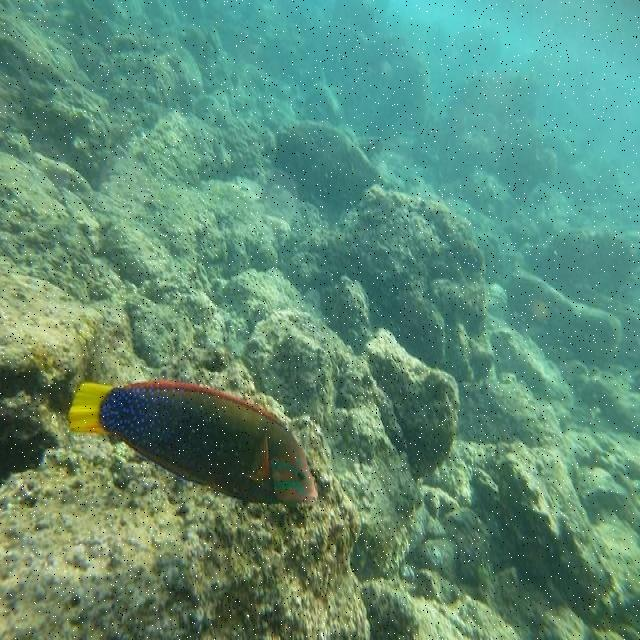fish: (64, 379, 317, 507)
